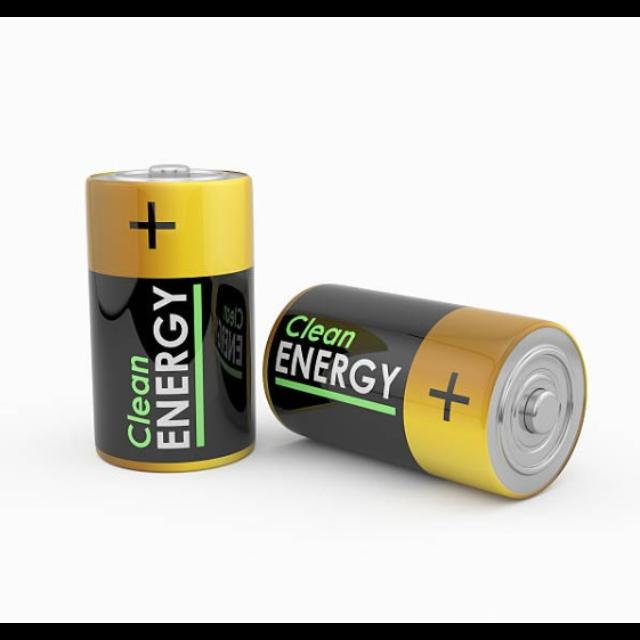Battery: (264, 285, 586, 499), (87, 165, 254, 473)
